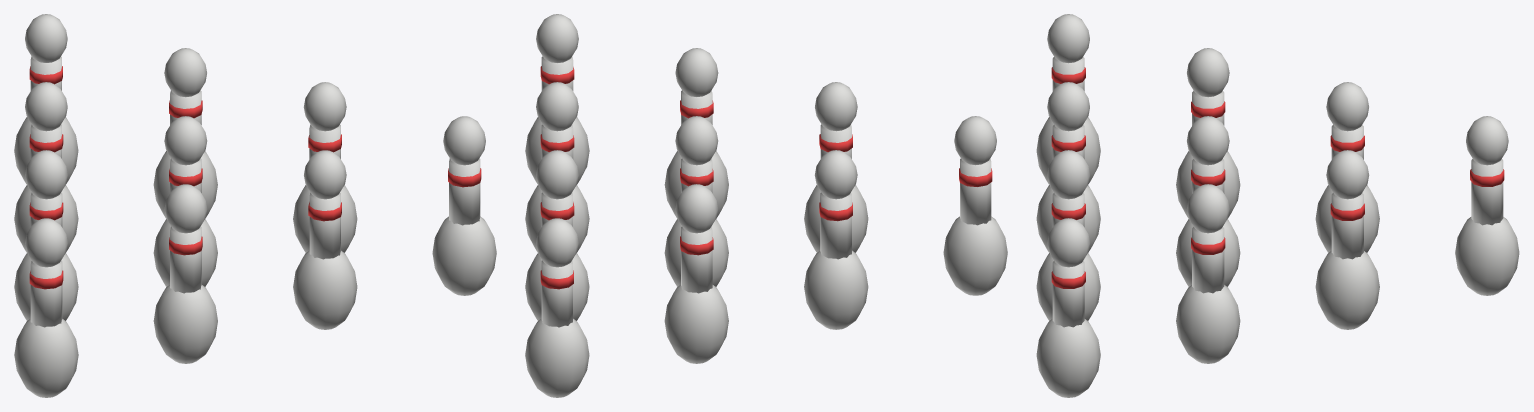
The model's file is bowling_pins.glb.
3 views of the same model, side by side, from view 1: azimuth 30°, elevation 25°; view 2: azimuth 150°, elevation 25°; view 3: azimuth 270°, elevation 25° (orthographic).
Visible parts, largest first — view 1: bowling_pins; view 2: bowling_pins; view 3: bowling_pins.
Part boxes in pixels (left/top/right/bottom): bowling_pins: left=14, top=14, right=496, bottom=397; bowling_pins: left=525, top=14, right=1007, bottom=397; bowling_pins: left=1036, top=14, right=1519, bottom=397.
Bounding box in the file's own units: 1.02 × 0.362 × 0.9.
